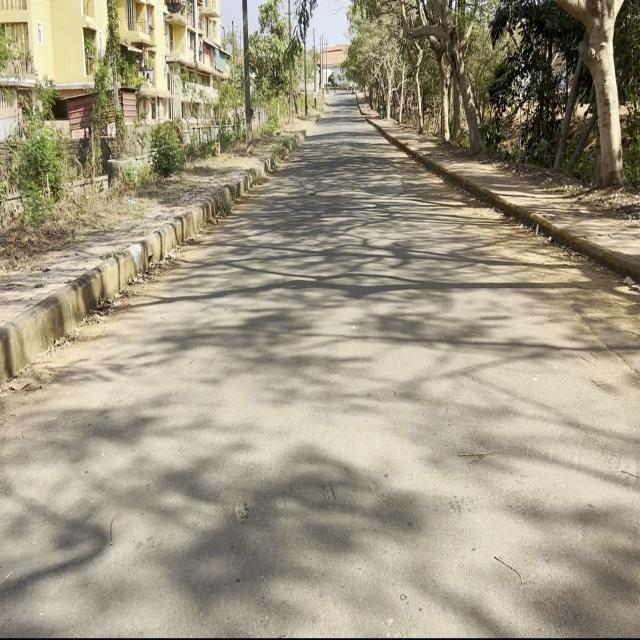Road: (4, 94, 634, 634)
